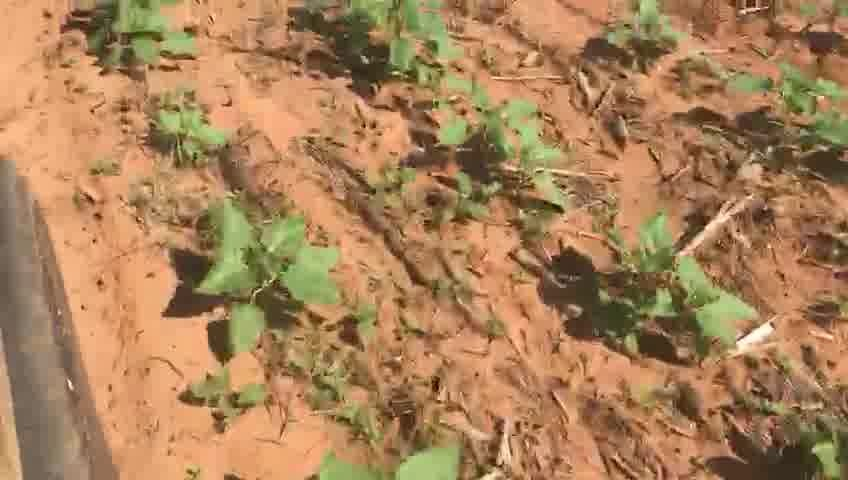sunflower: (188, 190, 377, 372), (551, 213, 759, 371), (432, 75, 574, 209), (727, 61, 839, 166), (79, 4, 207, 85), (338, 4, 453, 85), (251, 444, 520, 477), (593, 3, 685, 63), (145, 102, 228, 165), (763, 418, 842, 473)
